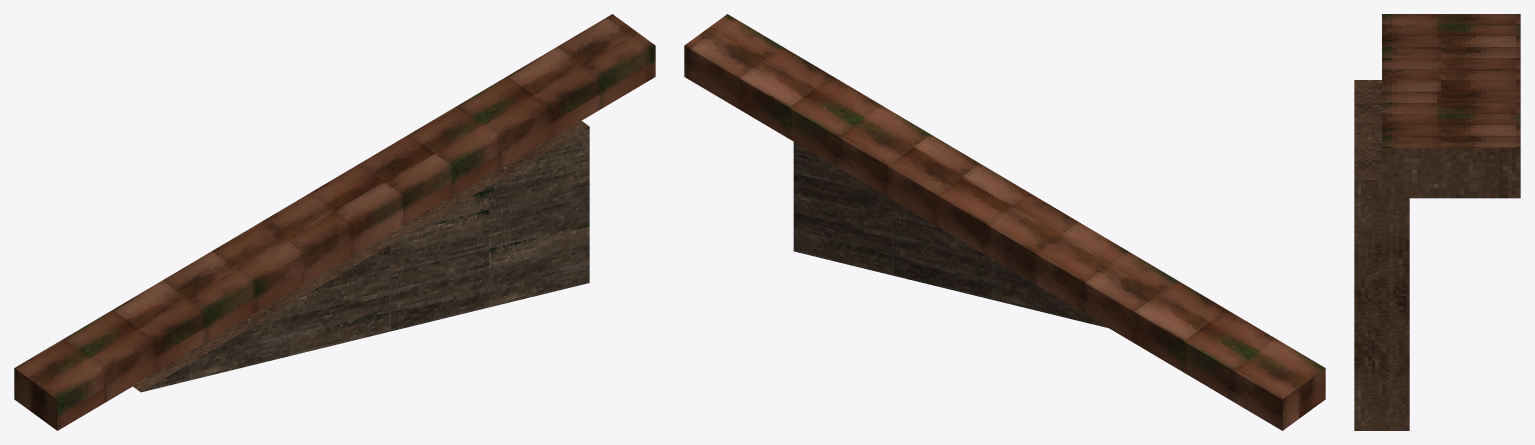
Rendered from roof_05_L.glb.
3 renders of one model, left to right at view 1: azimuth 30°, elevation 25°; view 2: azimuth 150°, elevation 25°; view 3: azimuth 270°, elevation 25°, orthographic. The views are drawn at different scales.
Parts seen in each view (by area): view 1: roof_05_L2; view 2: roof_05_L2; view 3: roof_05_L2.
Boxes of the visible parts, x1,y1,x2,y2 form: roof_05_L2: (14,14,655,430); roof_05_L2: (684,14,1325,430); roof_05_L2: (1354,14,1520,430).
Bounding box in the file's own units: 4 × 1.53 × 0.6.
Materials: 1 (1 with a texture image).
